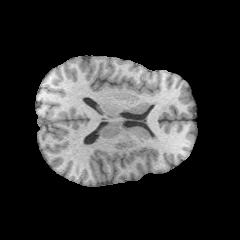glioma: (99, 103, 157, 149)
